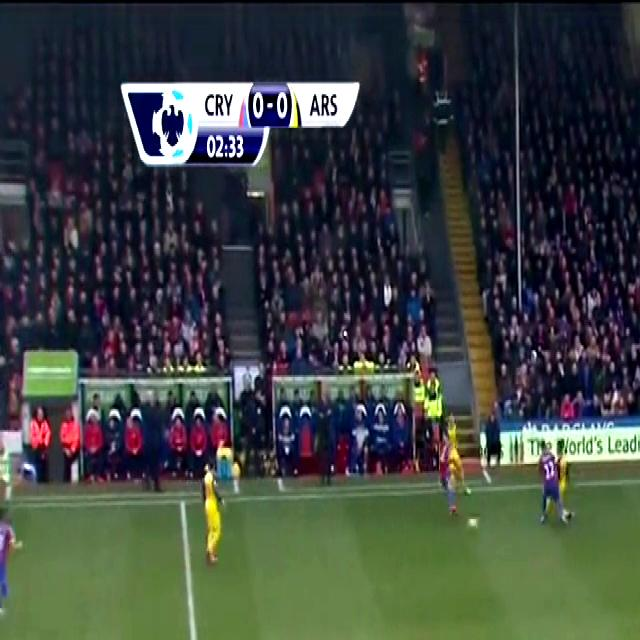ball: (466, 501, 485, 537)
soccer-player: (193, 447, 225, 570), (434, 410, 465, 523), (538, 433, 571, 532), (0, 496, 21, 640)
